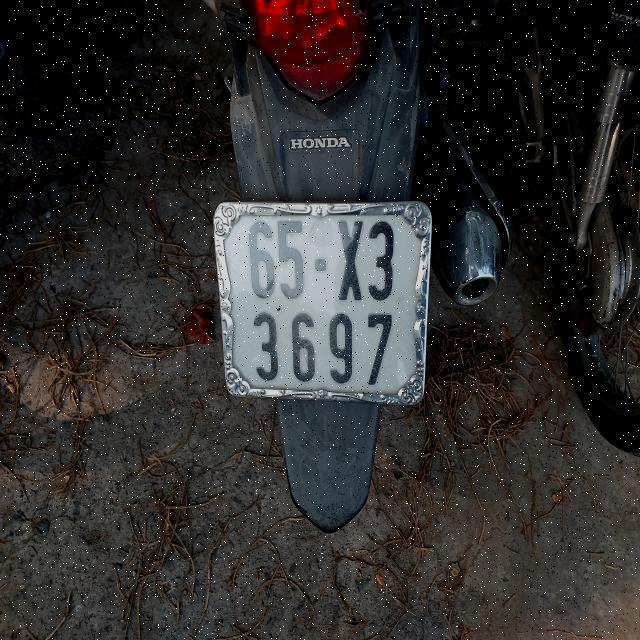3: (368, 220, 395, 302), (249, 312, 280, 380)
5: (276, 218, 306, 306)
6: (245, 219, 278, 304), (290, 310, 318, 384)
7: (368, 312, 392, 384)
9: (328, 314, 356, 388)
X: (338, 218, 368, 305)
